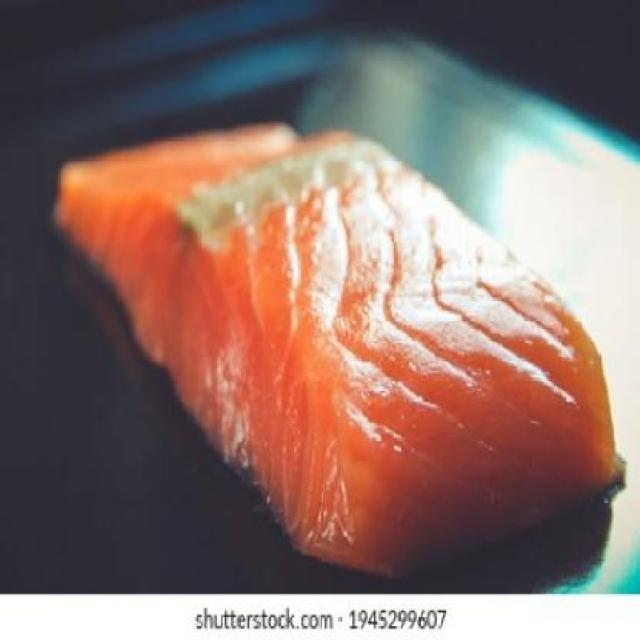salmon: (51, 81, 640, 564)
